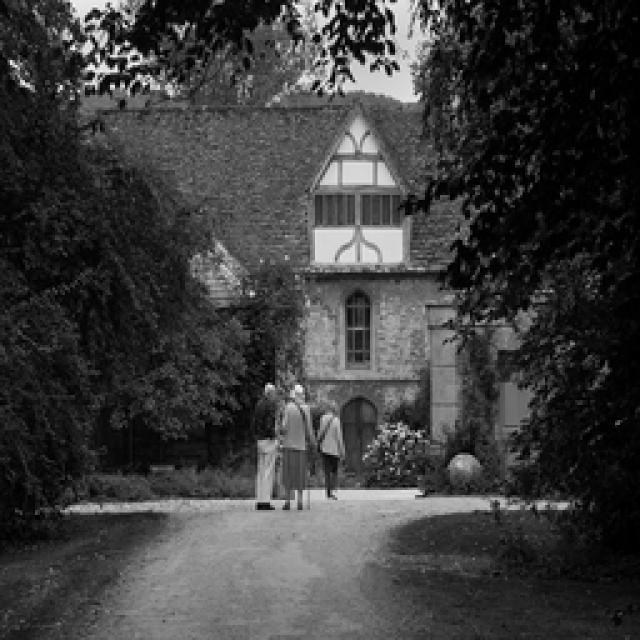Abbey: (289, 89, 449, 408)
